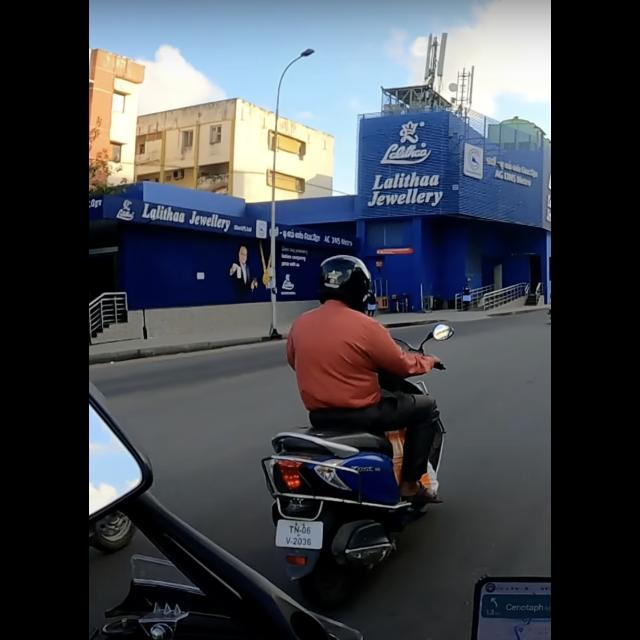with helmet: (316, 254, 370, 306)
